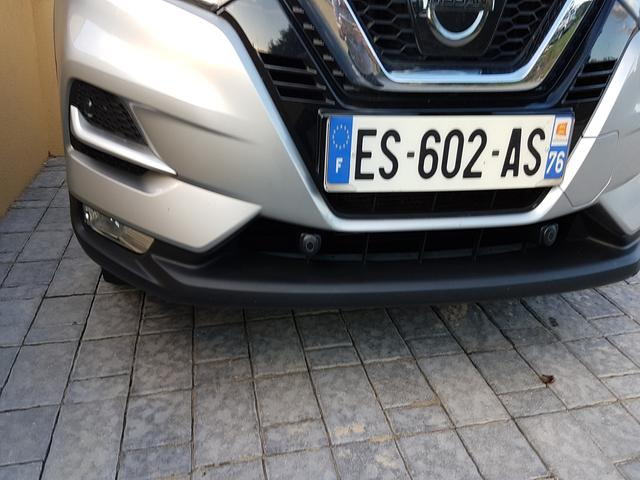Quashquai: (302, 81, 591, 219)
